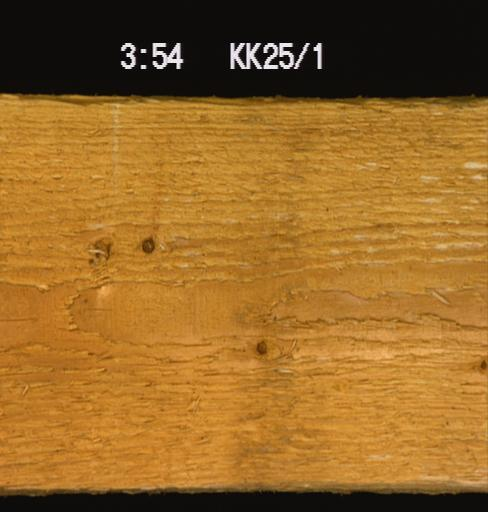small_knot: (140, 233, 155, 254), (254, 338, 268, 355), (477, 356, 487, 371)
sound_knot: (84, 233, 114, 292)
